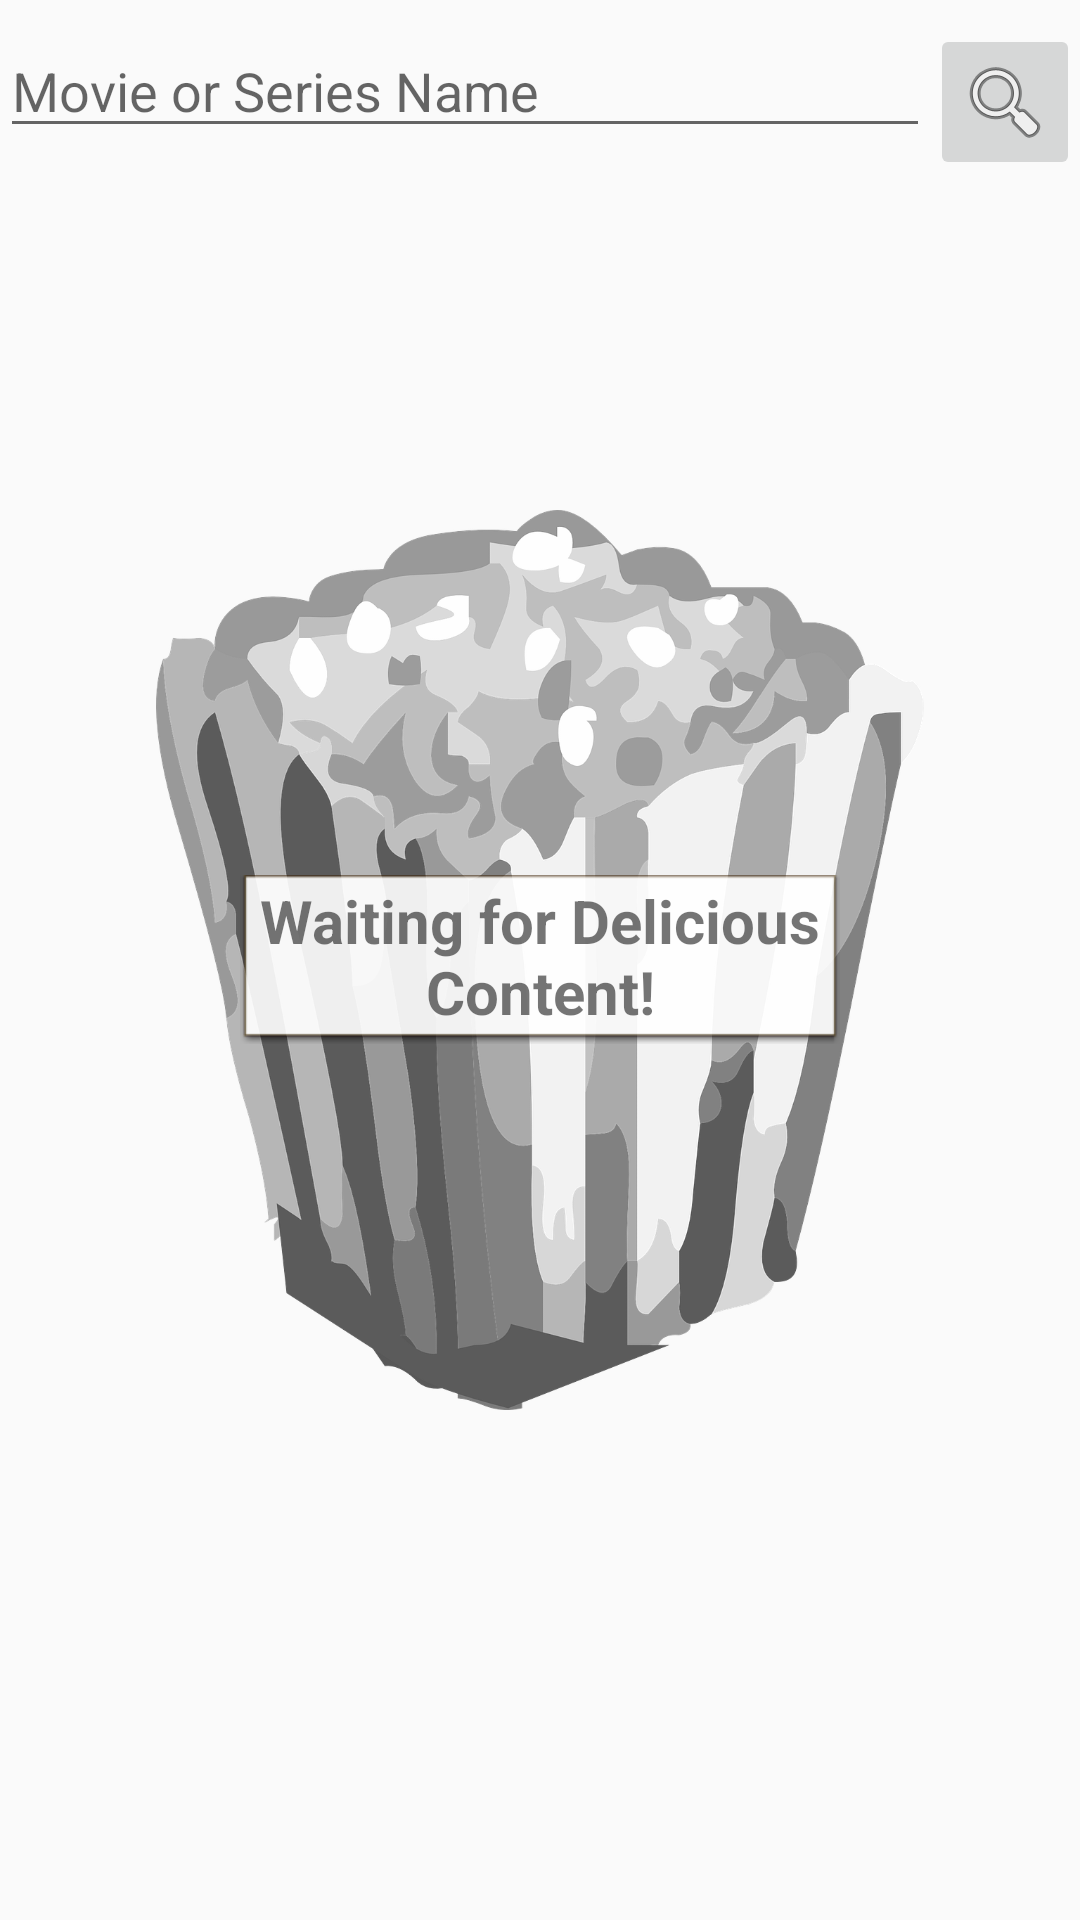

Screen size 1080*1920. Icon name, then its box in pixels as (x1, y1, x2, y2):
search: (942, 42, 1068, 162)
